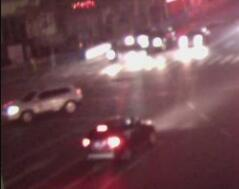car: (82, 114, 156, 166), (1, 83, 82, 125), (178, 24, 211, 49), (144, 26, 175, 52), (124, 28, 153, 47)
